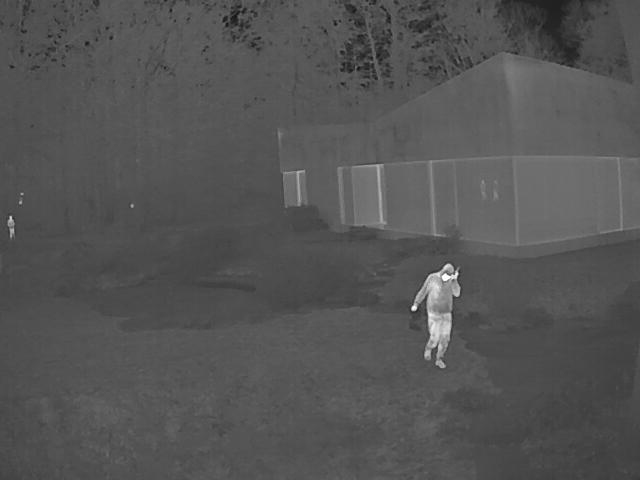person: (411, 261, 466, 369), (8, 214, 16, 240), (481, 177, 489, 199)
